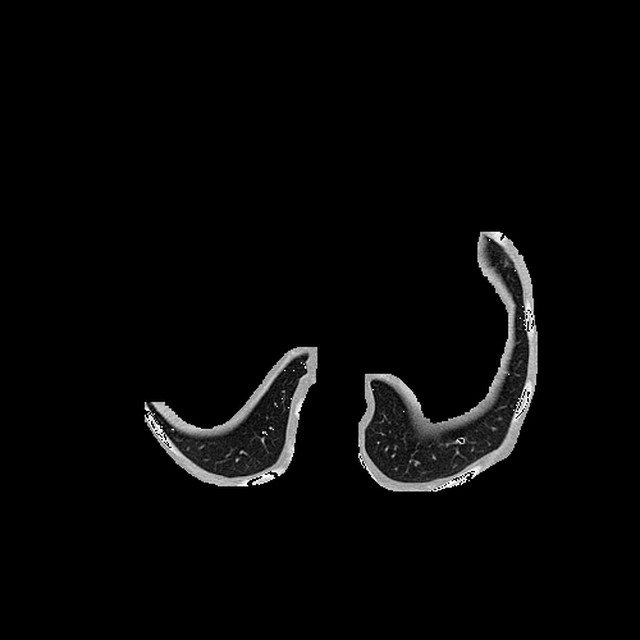PN: (456, 436, 463, 444)
